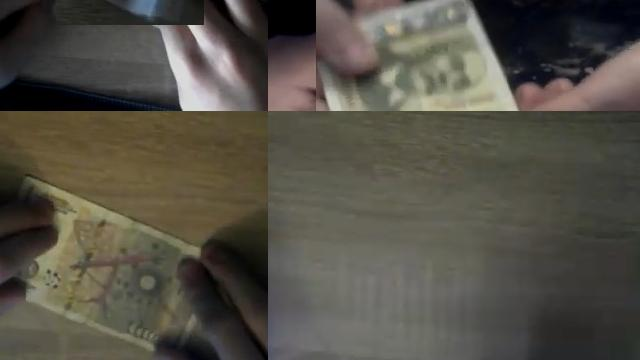10leva: (316, 0, 640, 111)
